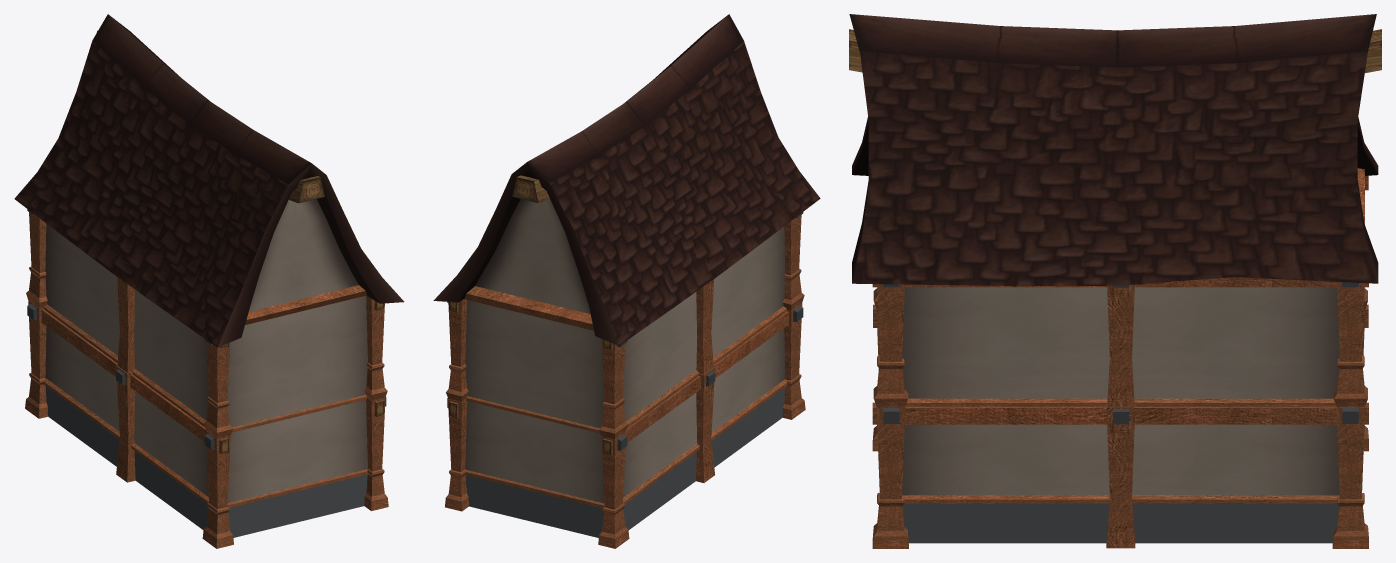
File: fanasty_mod_S2_I_house.fbx
3 views of the same model, side by side, from view 1: azimuth 30°, elevation 25°; view 2: azimuth 150°, elevation 25°; view 3: azimuth 270°, elevation 25° (orthographic). The views are drawn at different scales.
Visible parts, largest first — view 1: s2_I_house; view 2: s2_I_house; view 3: s2_I_house.
Boxes of the visible parts, <box> form: s2_I_house: <box>14,14,404,548</box>; s2_I_house: <box>433,14,820,548</box>; s2_I_house: <box>849,14,1381,548</box>.
Bounding box in the file's own units: 6.6 × 12.51 × 12.57.
